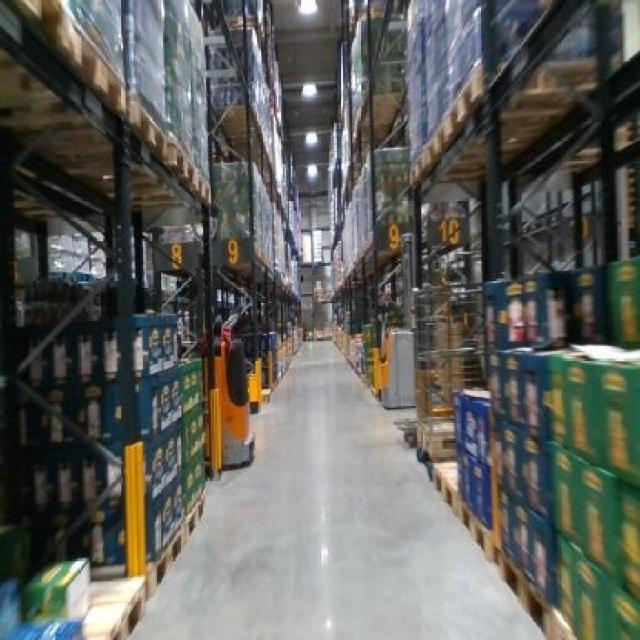pallets: (478, 255, 637, 637)
